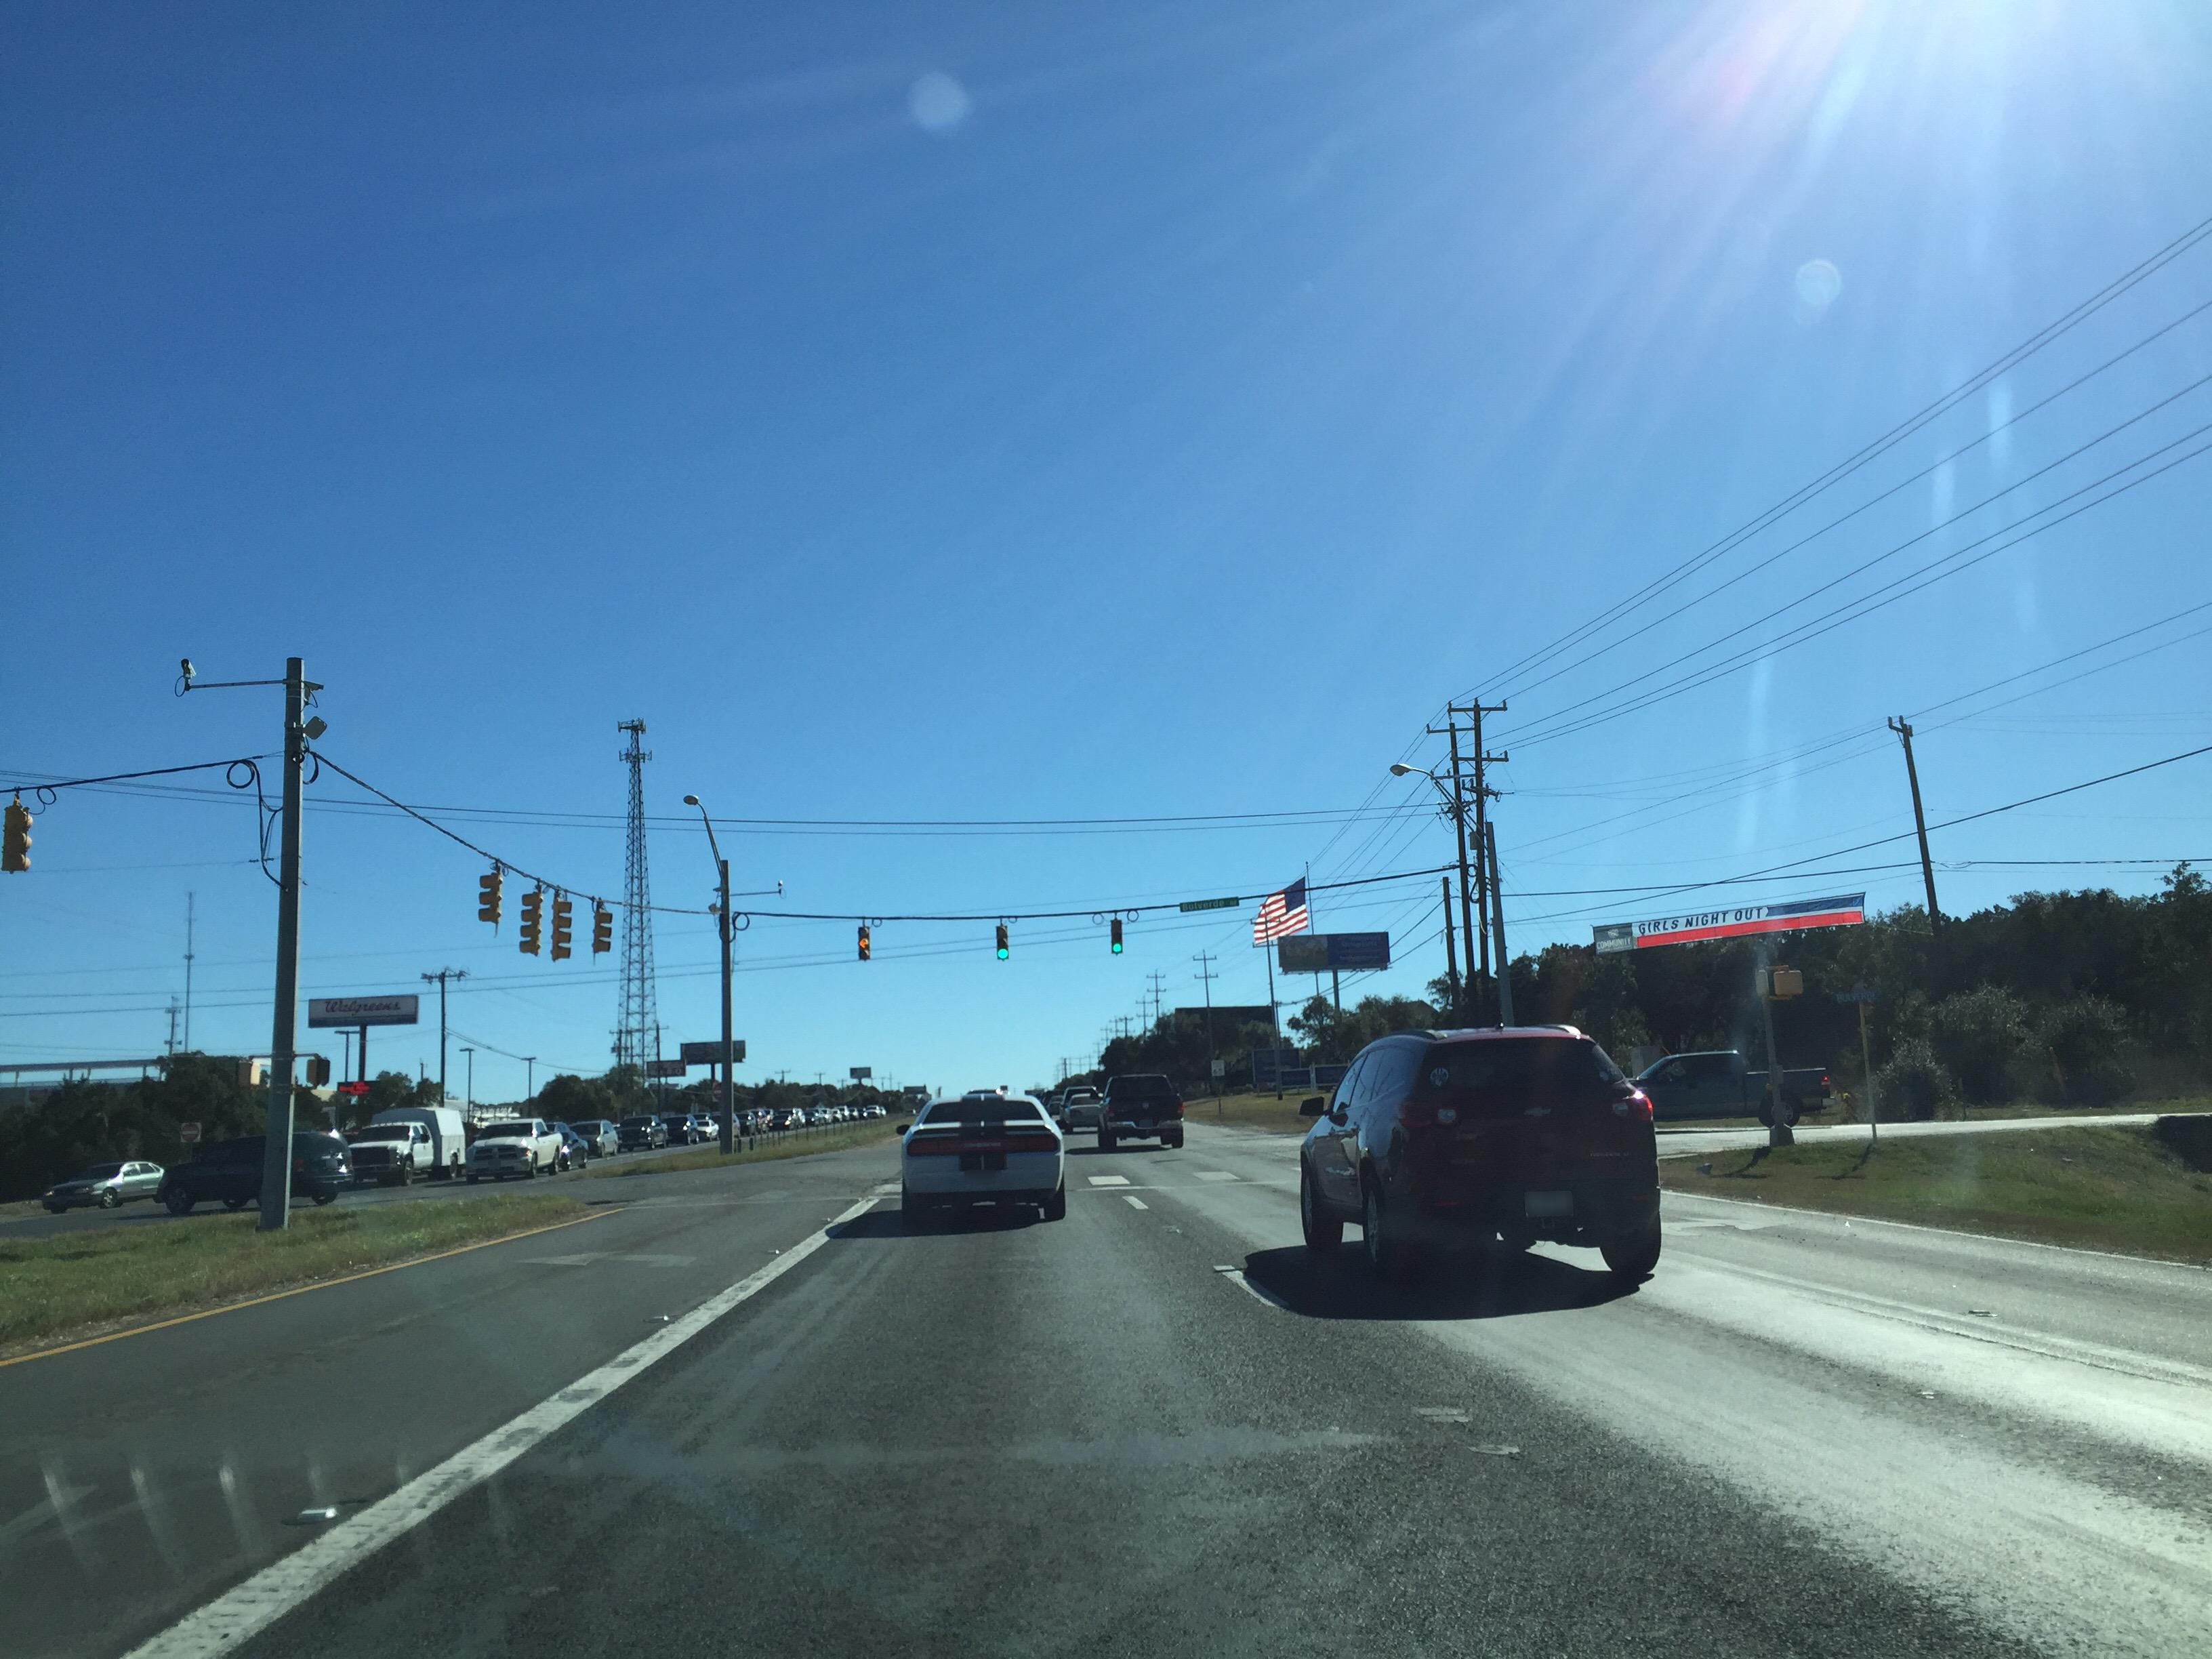vinyl banner: (1564, 887, 1928, 962)
